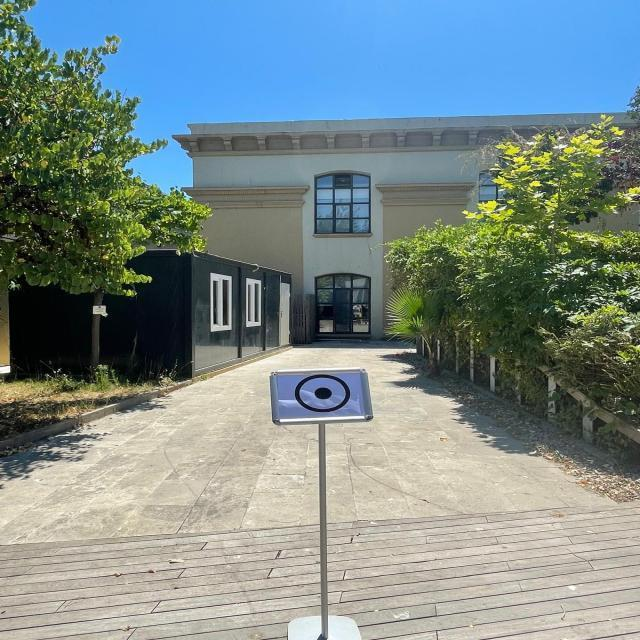Target: (256, 362, 389, 426)
inner: (309, 385, 336, 403)
